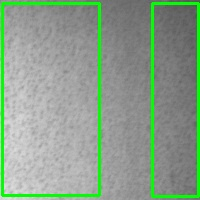pitted_surface: (2, 3, 99, 195), (152, 3, 198, 196)
